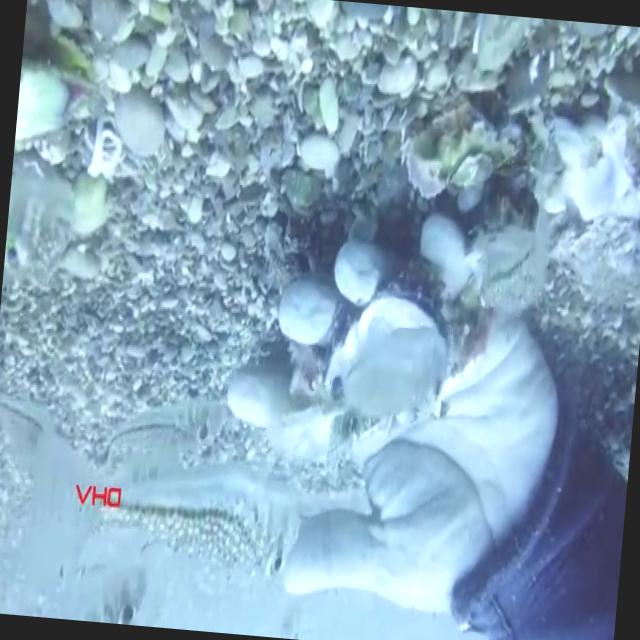Balon Baligi: (68, 464, 304, 582), (104, 392, 228, 478), (2, 172, 74, 281)
